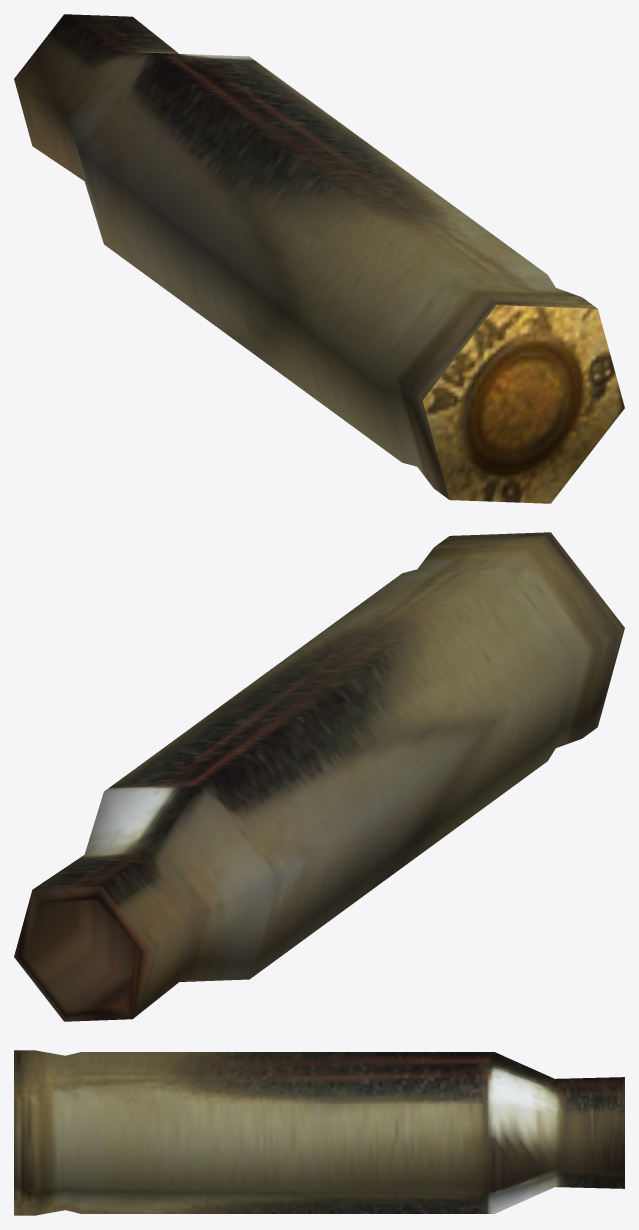
Rendered from AugCasing.glb.
The picture shows the model from 3 angles, top to bottom: view 1: azimuth 30°, elevation 25°; view 2: azimuth 150°, elevation 25°; view 3: azimuth 270°, elevation 25°; orthographic projection. The views are drawn at different scales.
Visible parts, largest first — view 1: Rifle_caliber_2; view 2: Rifle_caliber_2; view 3: Rifle_caliber_2.
Part boxes in pixels (box(x1,y1,x2,y2)): Rifle_caliber_2: box(14, 14, 624, 503); Rifle_caliber_2: box(14, 532, 624, 1021); Rifle_caliber_2: box(14, 1050, 624, 1215).
Size of the model in its own units: 0.528 by 0.528 by 1.99.
1 material, 1 textured.
